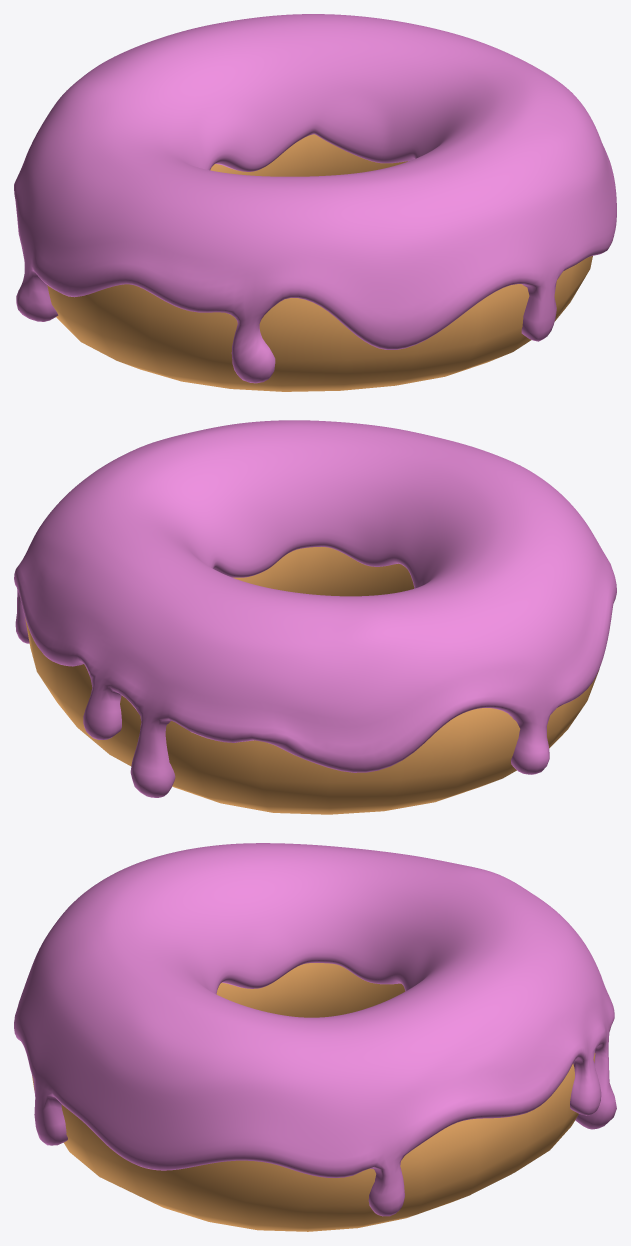
File: tuto_doughnut_web.glb
3 renders of one model, top to bottom at view 1: azimuth 30°, elevation 25°; view 2: azimuth 150°, elevation 25°; view 3: azimuth 270°, elevation 25°, orthographic.
Parts seen in each view (by area): view 1: icing, doughnut; view 2: icing, doughnut; view 3: icing, doughnut.
Part boxes in pixels (box(x1,y1,x2,y2)): icing: box(14, 14, 616, 383); doughnut: box(47, 134, 592, 391); icing: box(14, 420, 616, 797); doughnut: box(25, 546, 599, 814); icing: box(14, 843, 616, 1216); doughnut: box(32, 963, 595, 1231).
Size of the model in its own units: 2.23 by 0.8296 by 2.15.
Materials: 2 (1 with a texture image).
